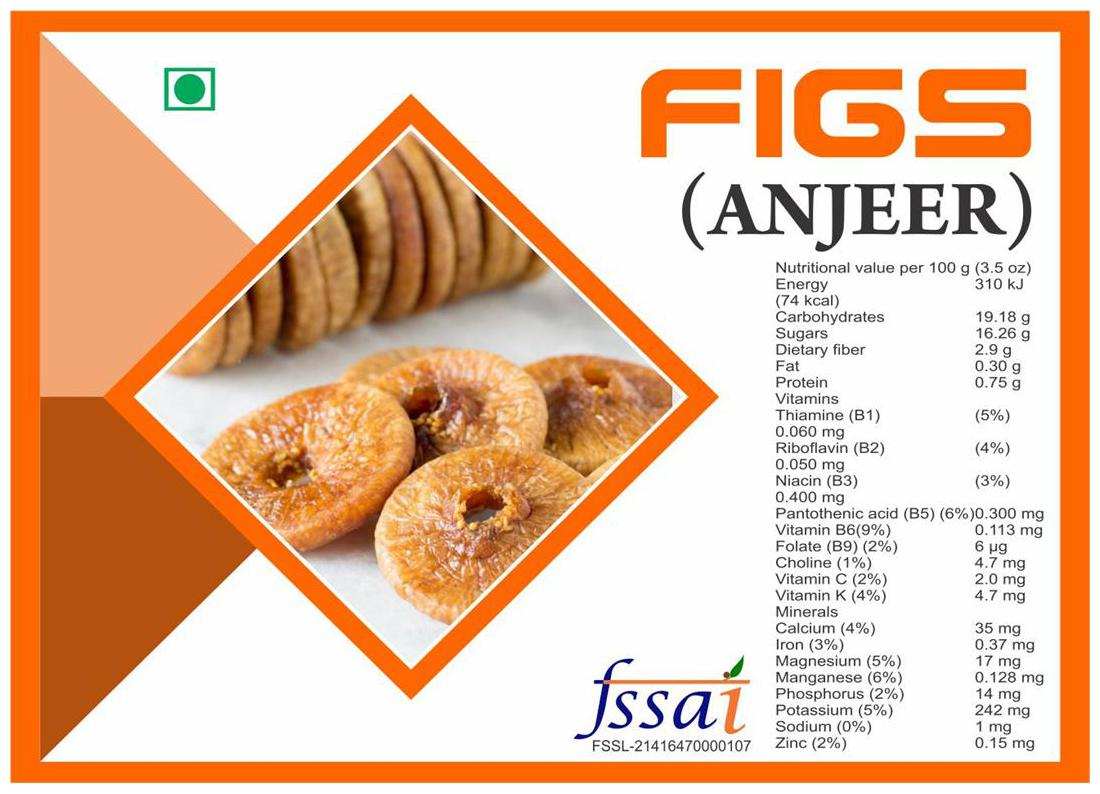fssai: (570, 653, 751, 738)
